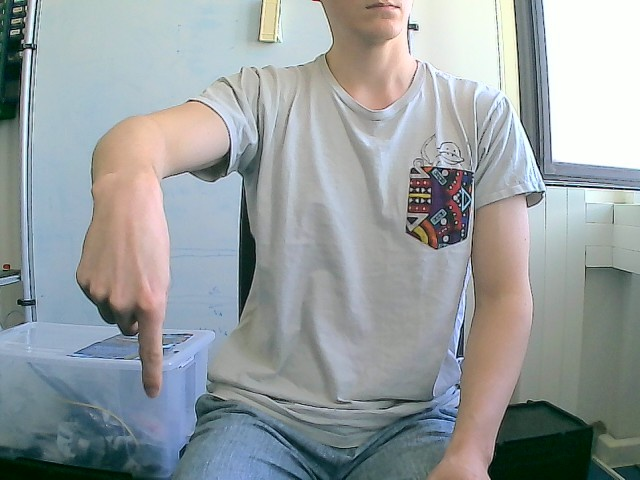down: (74, 175, 173, 399)
